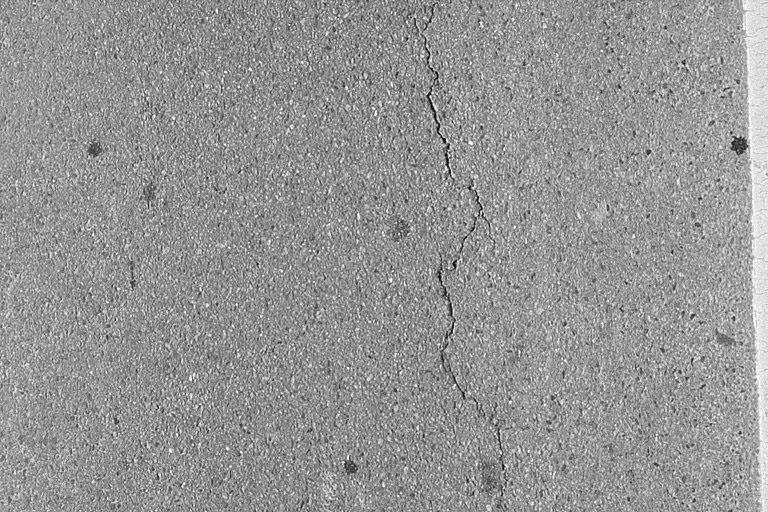crack: (407, 0, 509, 512)
